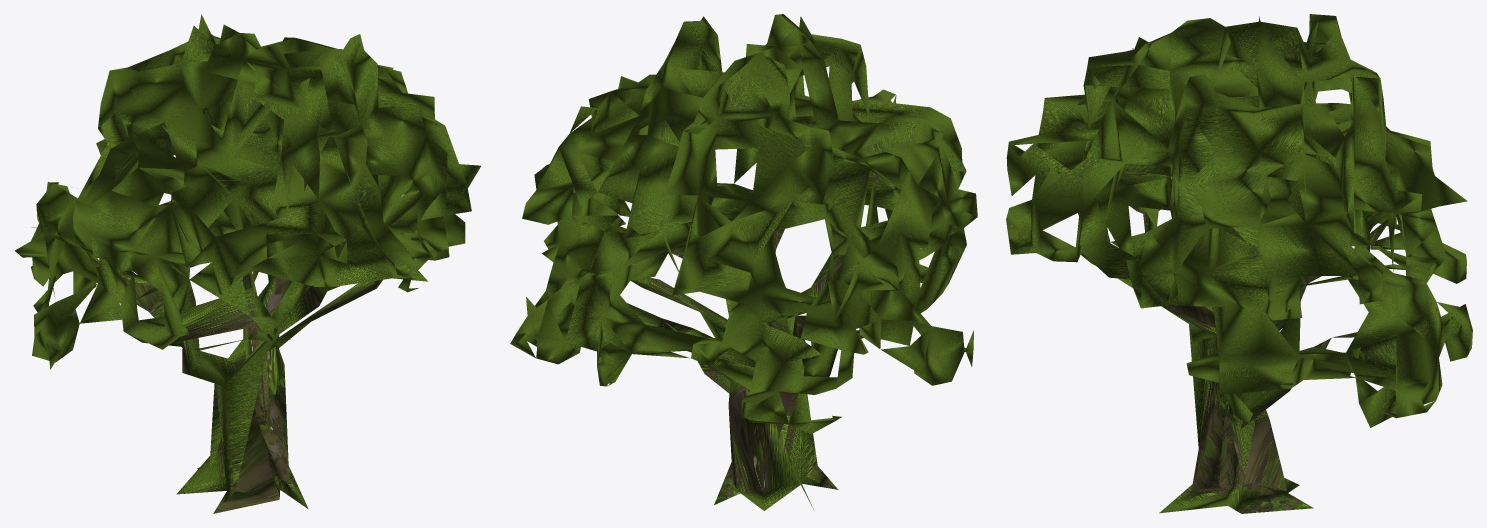
The model's file is oak_tree.glb.
3 views of the same model, side by side, from view 1: azimuth 30°, elevation 25°; view 2: azimuth 150°, elevation 25°; view 3: azimuth 270°, elevation 25° (orthographic). The views are drawn at different scales.
Size of the model in its own units: 13.57 by 14 by 12.3.
Materials: 1 (1 with a texture image).
